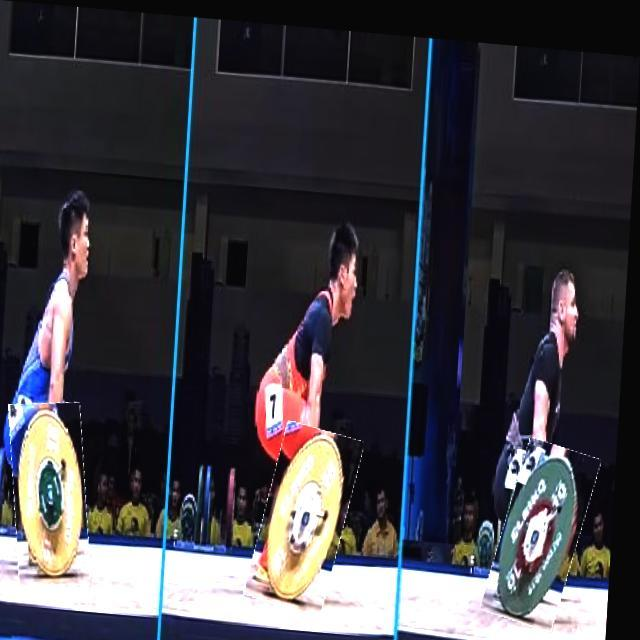barbell: (259, 417, 362, 609), (497, 429, 598, 621), (12, 399, 102, 589)
